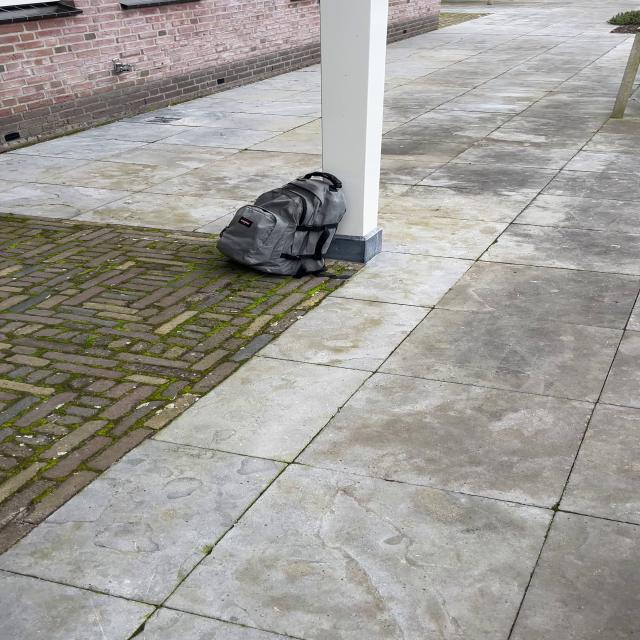backpack: (210, 170, 356, 280)
